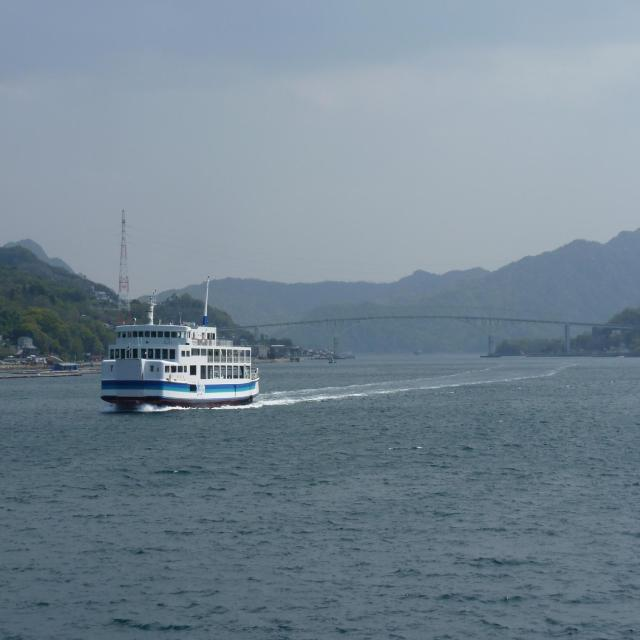houseboat: (93, 285, 261, 418)
